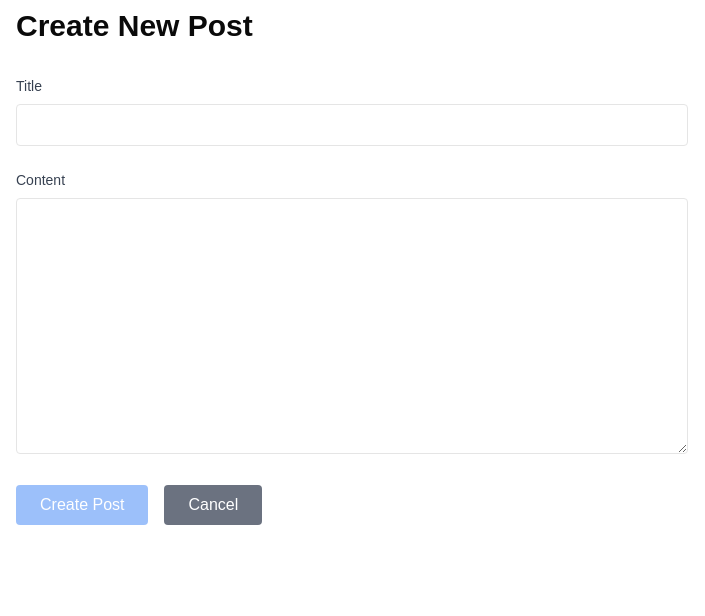
Scenario: CreatePost › handles create post error
// Fill in valid form data
Type "Test Title" into the field labelled "Title".
click(352, 125); type("Test Title")  # box [16,104,688,146]
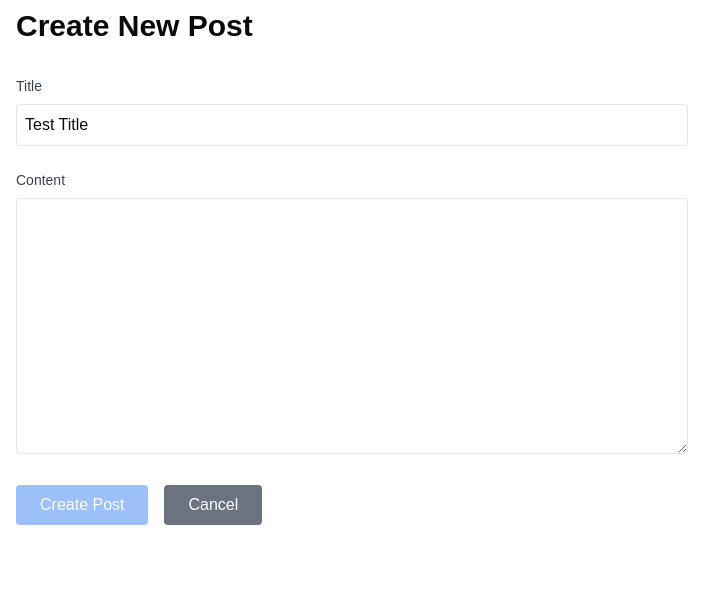
Type "Test Content Long Enough" into the text box labelled "Content".
click(352, 326); type("Test Content Long Enough")  # box [16,198,688,454]
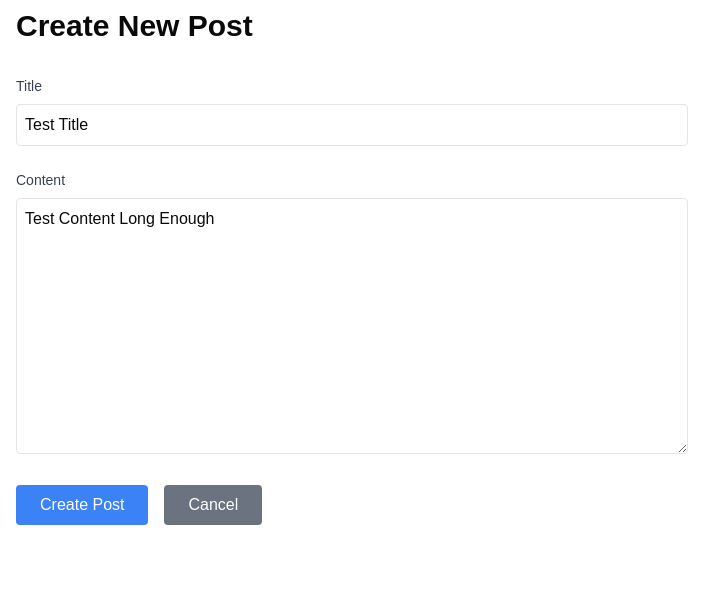
Click the button "Create Post".
click(82, 505)  # box [16,485,148,525]
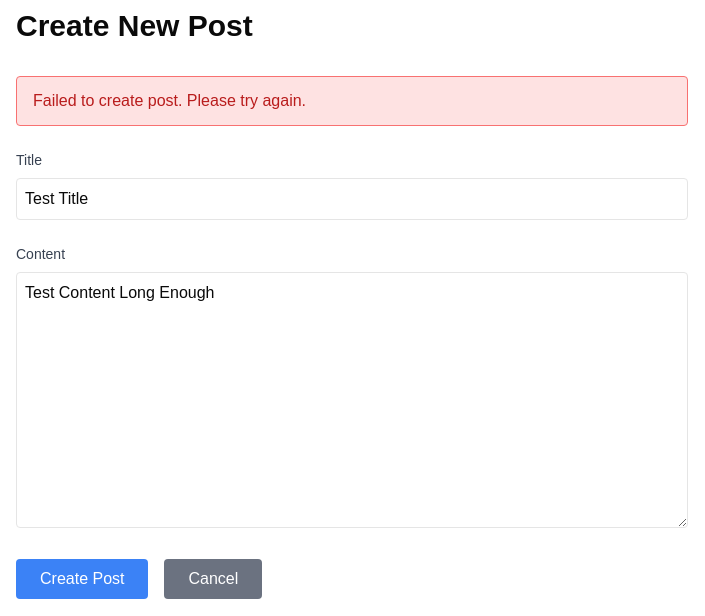
Check: the text "Failed to create post. Please try again." is shown, box [16,76,688,126]
